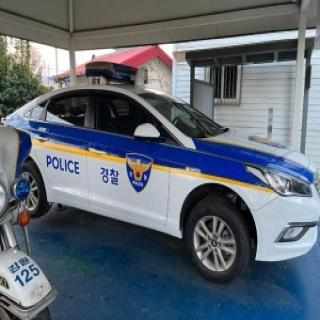Police_car: (10, 54, 320, 289)
